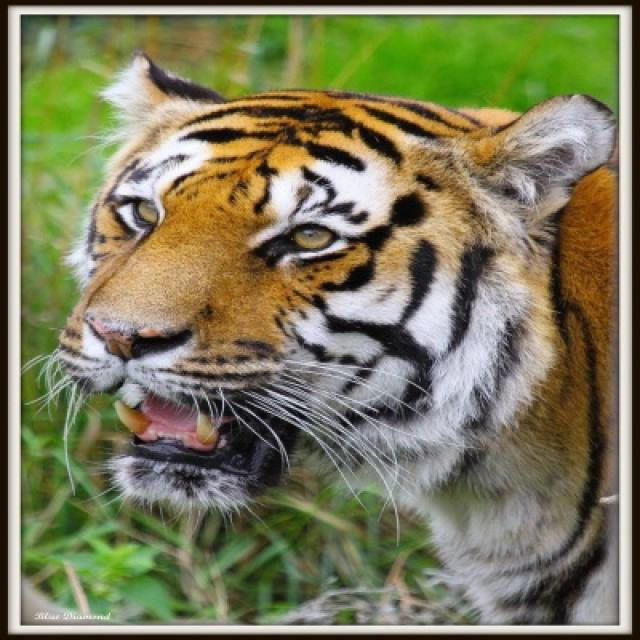Tiger: (59, 54, 614, 622)
